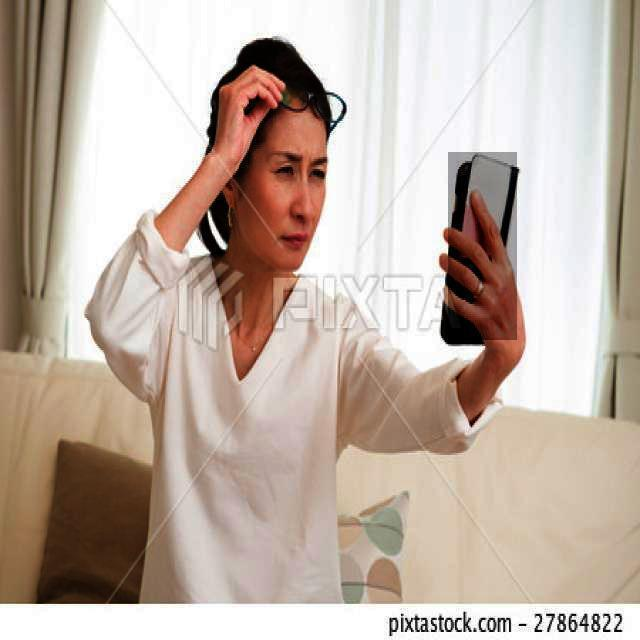phone: (448, 152, 517, 340)
